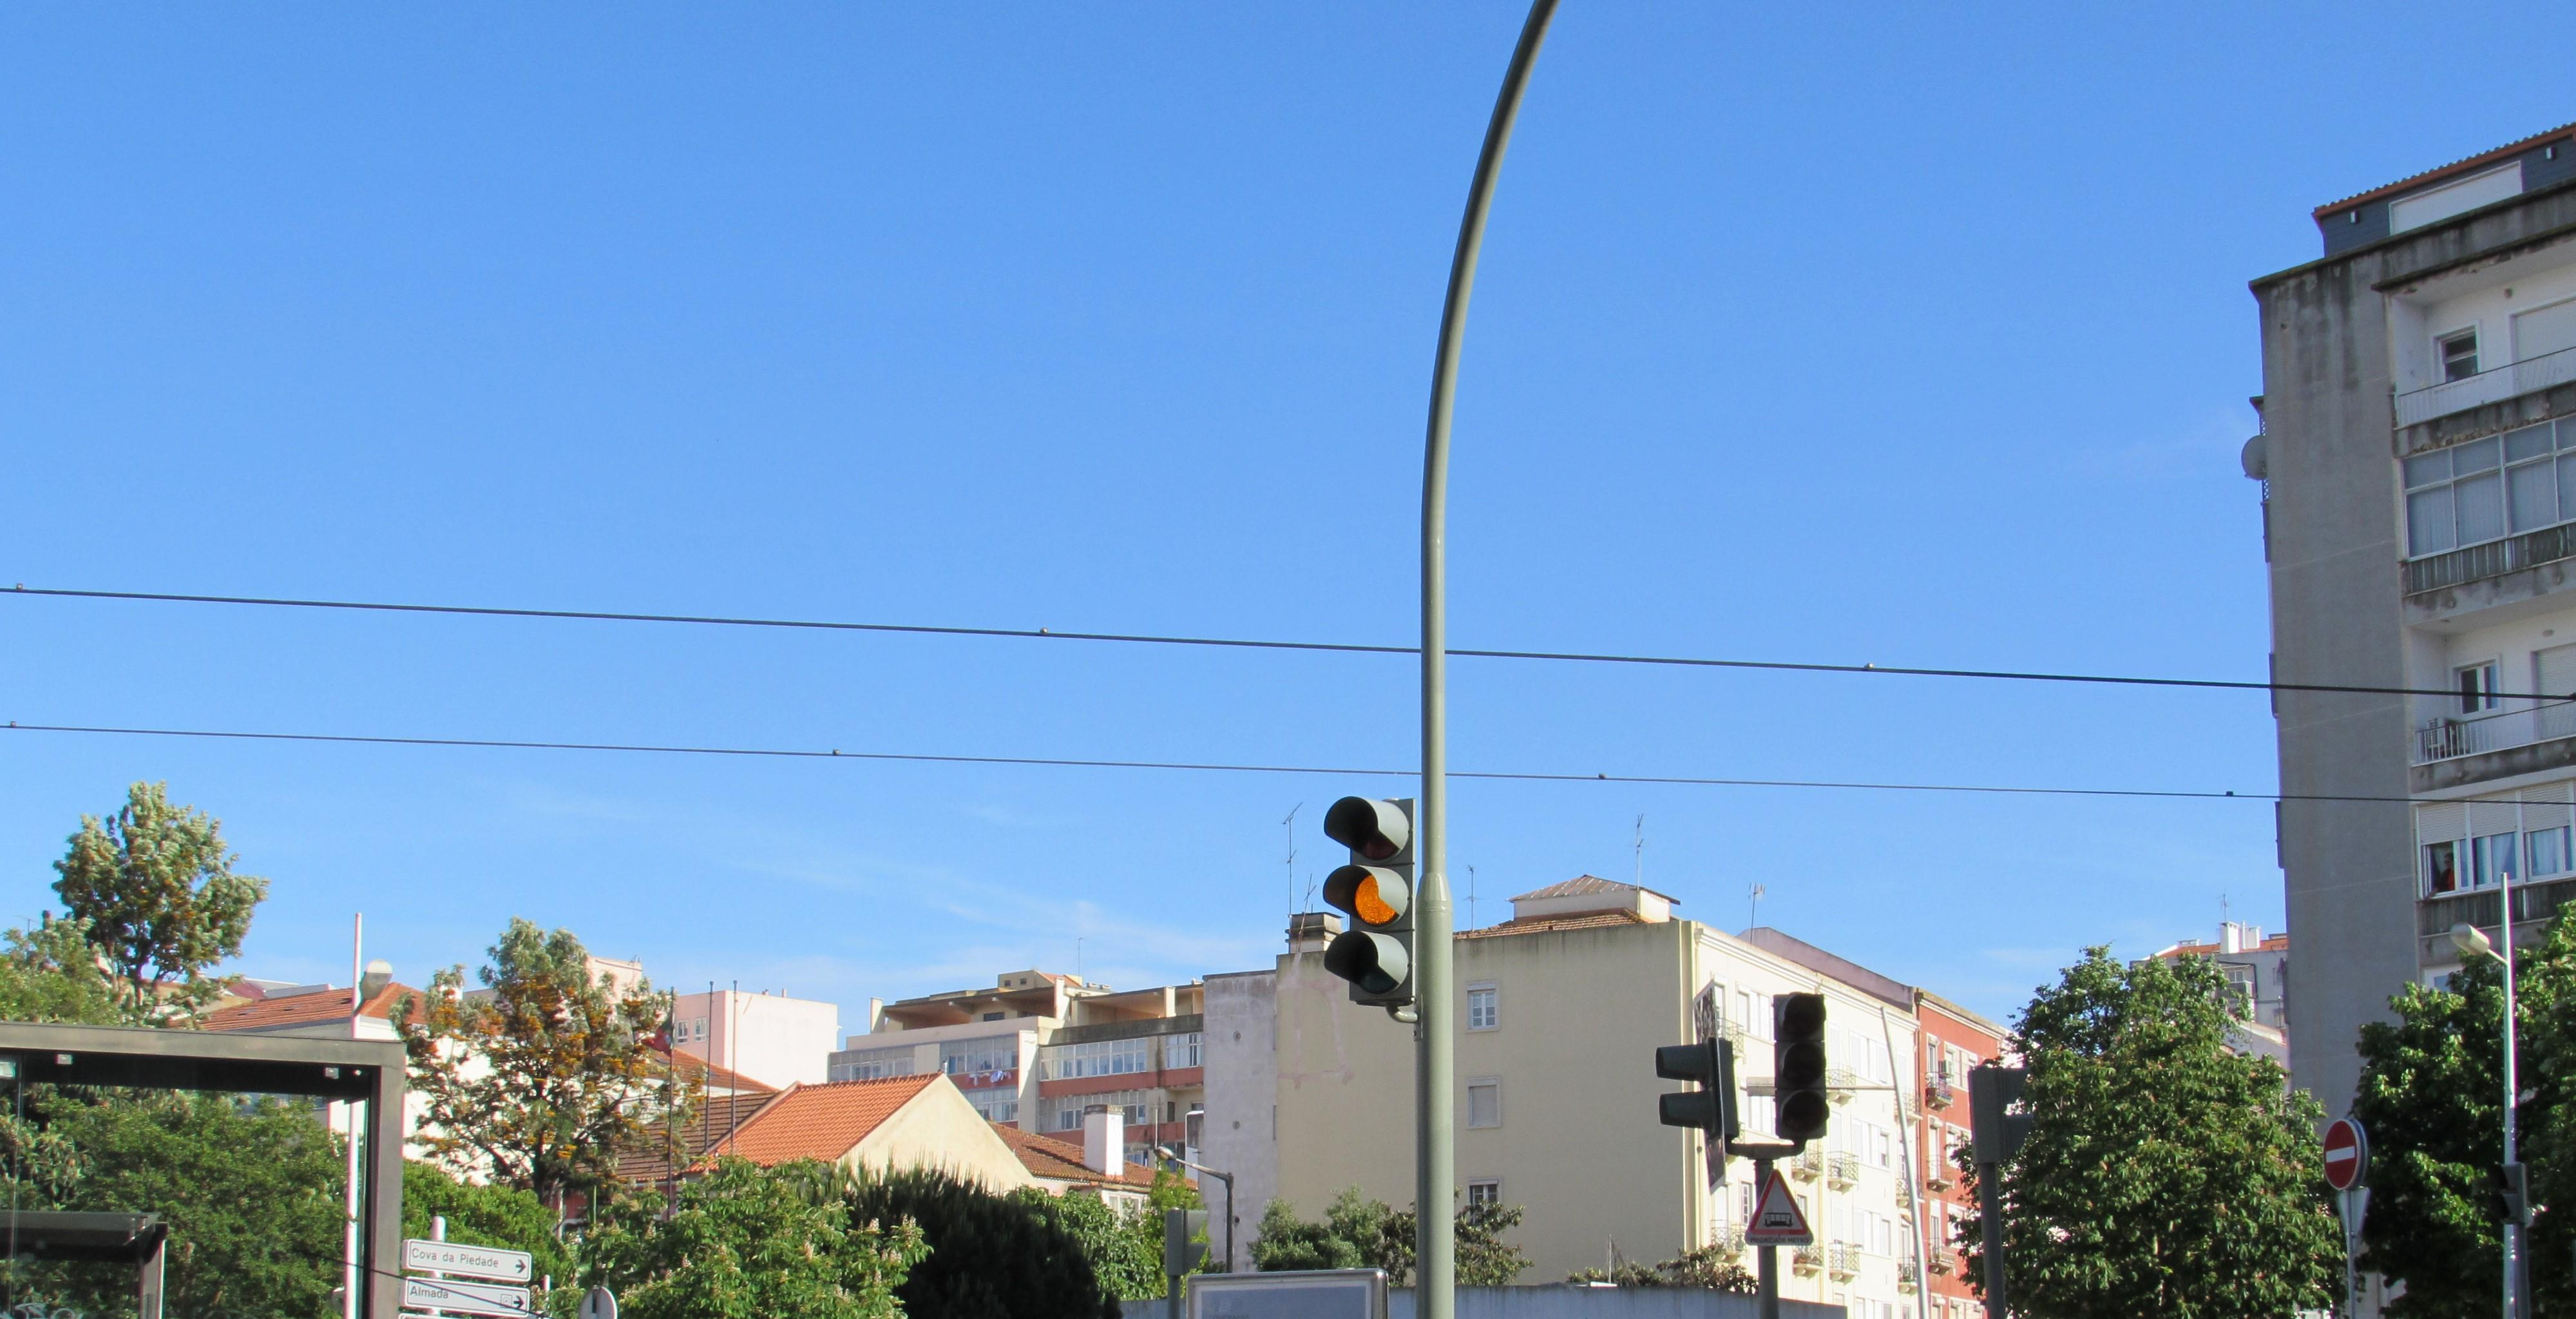yellow_light: (1322, 797, 1414, 1004)
